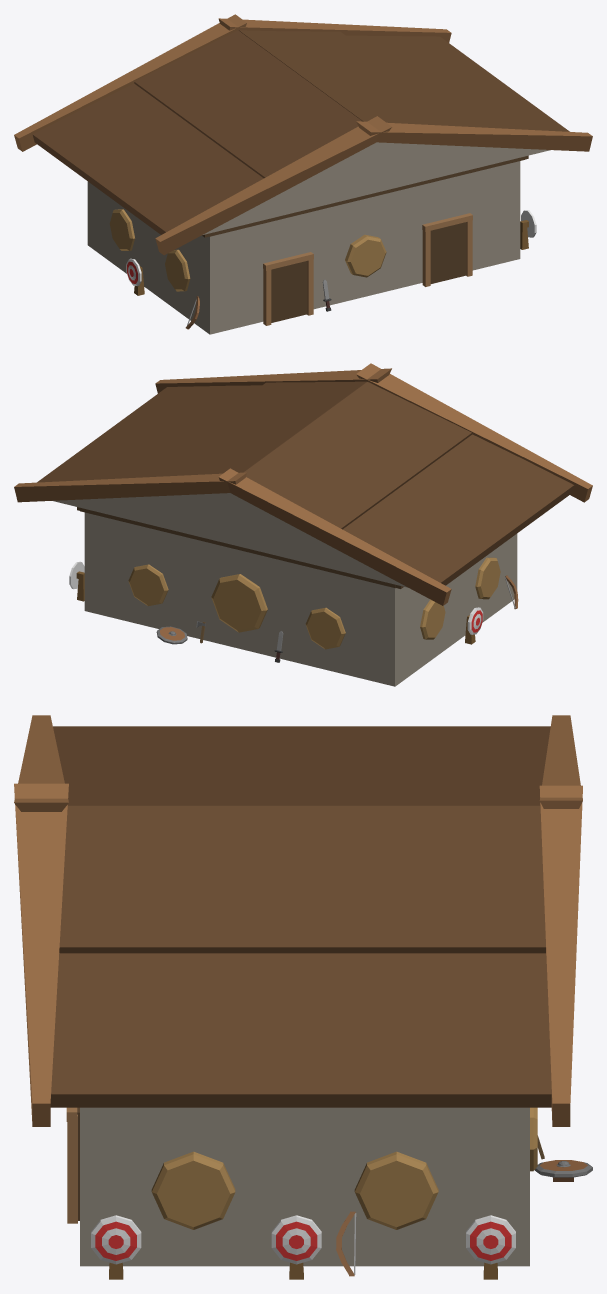
File: Barrakken.fbx
3 views of the same model, one above another, from view 1: azimuth 30°, elevation 25°; view 2: azimuth 150°, elevation 25°; view 3: azimuth 270°, elevation 25° (orthographic). The views are drawn at different scales.
Visible parts, largest first — view 1: Cube.007, Cube.001, Cube.009, Cube.013, Cube.002, Cube.003, Cube.004, Cylinder.006, Cube.014, Cube.018, Cube.019; view 2: Cube.007, Cube.001, Cube.009, Cube.013, Cube.002, Cylinder.006, Cube.014, Cube.019, Cube.017, Cube.024; view 3: Cube.009, Cube.001, Cube.007, Cube.013, Cylinder.006, Cube.016, Cube.018, Cube.017, Cube.004, Cube.024.
Boxes of the visible parts, x1,y1,x2,y2 form: Cube.007: (32, 30, 362, 234); Cube.001: (87, 161, 520, 334); Cube.009: (239, 30, 569, 131); Cube.013: (14, 14, 592, 255); Cube.002: (203, 142, 550, 234); Cube.003: (263, 252, 313, 325); Cube.004: (422, 213, 472, 286); Cylinder.006: (109, 209, 386, 291); Cube.014: (202, 155, 528, 237); Cube.018: (520, 210, 536, 249); Cube.019: (126, 258, 144, 295); Cube.007: (244, 382, 574, 585); Cube.001: (84, 512, 517, 686); Cube.009: (37, 381, 366, 482); Cube.013: (14, 363, 592, 605); Cube.002: (52, 493, 407, 587); Cylinder.006: (128, 557, 500, 649); Cube.014: (77, 507, 403, 588); Cube.019: (465, 607, 483, 644); Cube.017: (69, 561, 84, 601); Cube.024: (156, 626, 187, 644); Cube.009: (50, 805, 551, 1107); Cube.001: (80, 1107, 529, 1266); Cube.007: (53, 726, 550, 805); Cube.013: (14, 715, 582, 1126); Cylinder.006: (151, 1107, 537, 1229); Cube.016: (271, 1215, 321, 1279); Cube.018: (91, 1215, 141, 1279); Cube.017: (466, 1215, 515, 1279); Cube.004: (66, 1107, 79, 1223); Cube.024: (534, 1160, 592, 1181).
Bounding box in the file's own units: 793 × 320 × 500.
